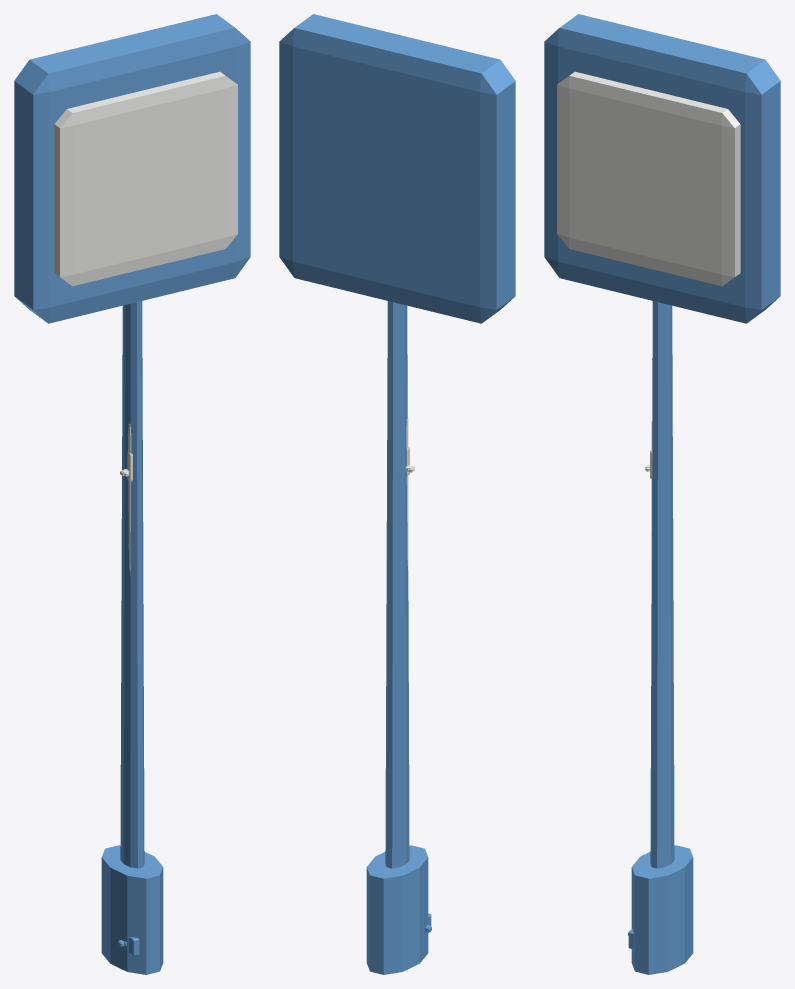
The model's file is b02_accessible_parking_sign.glb.
3 renders of one model, left to right at view 1: azimuth 30°, elevation 25°; view 2: azimuth 150°, elevation 25°; view 3: azimuth 330°, elevation 25°, orthographic.
Visible parts, largest first — view 1: b02_accessible_parking_sign; view 2: b02_accessible_parking_sign; view 3: b02_accessible_parking_sign.
Boxes of the visible parts, x1,y1,x2,y2 form: b02_accessible_parking_sign: (14, 14, 250, 974); b02_accessible_parking_sign: (279, 14, 515, 974); b02_accessible_parking_sign: (544, 14, 780, 974).
Bounding box in the file's own units: 0.62 × 2.49 × 0.203.
